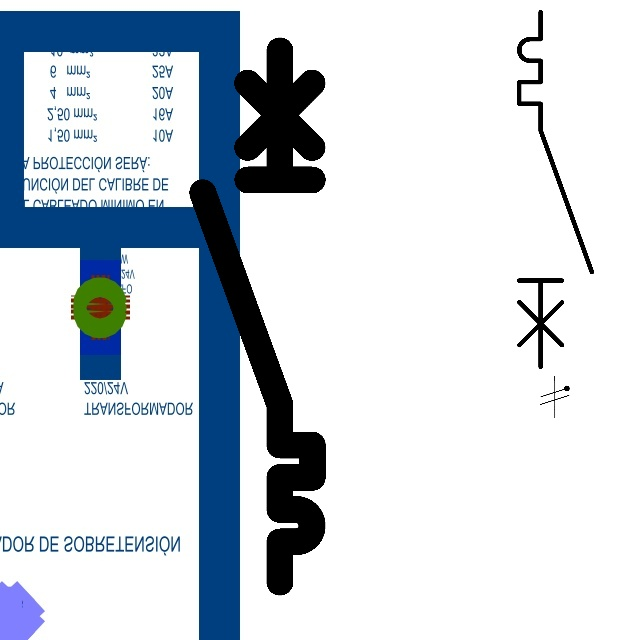interruptor_termomagnetico: (189, 37, 326, 596), (510, 3, 601, 375)
